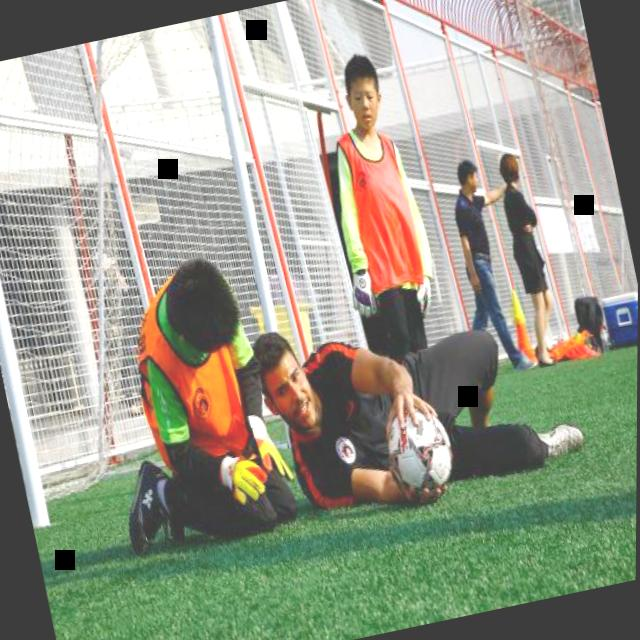Fall-Detected: (244, 262, 600, 540)
